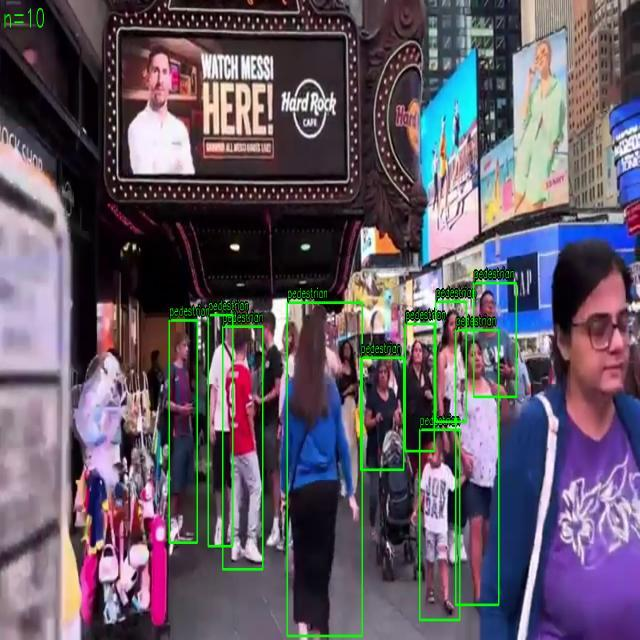with scooter: (287, 303, 363, 636), (456, 330, 498, 606), (223, 326, 263, 570), (420, 430, 460, 620), (168, 320, 198, 543), (208, 314, 233, 546), (474, 282, 516, 398), (361, 358, 404, 470), (405, 324, 435, 452), (436, 302, 466, 422)
